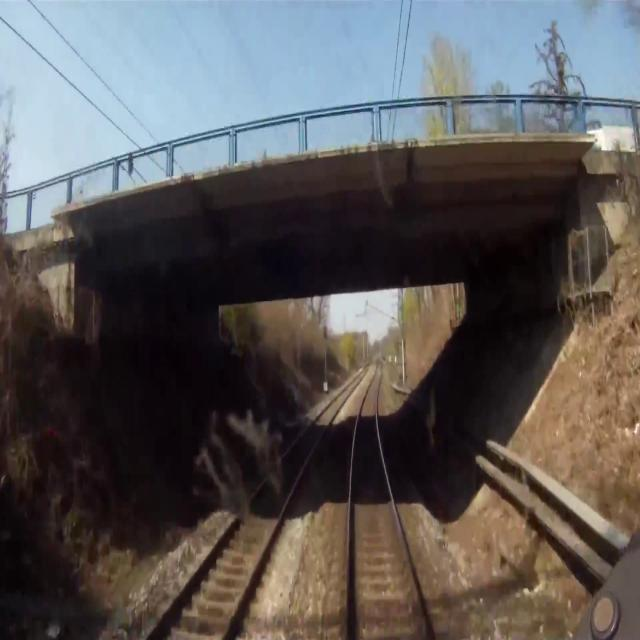rail-track: (150, 379, 358, 639), (352, 364, 427, 639)
